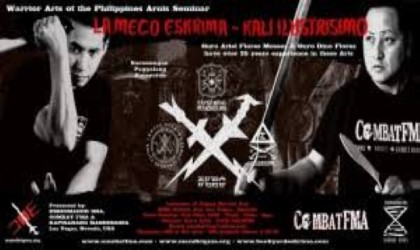baston_e: (223, 5, 314, 187)
